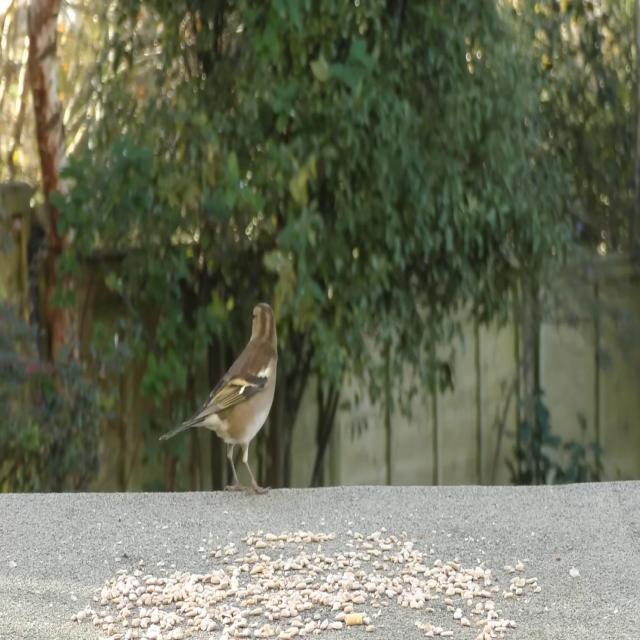bird: (160, 301, 283, 503)
